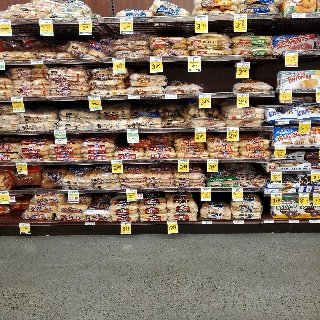All PRICE TAGS: (39, 18, 53, 23), (233, 14, 247, 19), (198, 93, 211, 98), (292, 13, 305, 18), (78, 18, 91, 23), (194, 15, 207, 20), (237, 62, 250, 67), (280, 88, 292, 93), (150, 57, 162, 62), (188, 56, 200, 61), (119, 18, 133, 22), (271, 170, 282, 175), (300, 119, 311, 124), (285, 51, 298, 55), (112, 58, 125, 62), (194, 128, 206, 132), (237, 93, 249, 97), (165, 94, 177, 98), (11, 97, 23, 101), (15, 162, 27, 166), (31, 60, 43, 64), (88, 96, 100, 100), (233, 220, 244, 224), (121, 221, 132, 225), (232, 187, 243, 191), (126, 188, 137, 192), (68, 190, 79, 194), (207, 159, 218, 163), (111, 160, 122, 164), (228, 127, 239, 131), (127, 129, 138, 133), (55, 130, 66, 134), (128, 95, 139, 99), (0, 20, 11, 24), (309, 219, 320, 223), (299, 193, 310, 197), (271, 193, 282, 197), (275, 145, 286, 149), (278, 120, 289, 124), (202, 220, 212, 224), (167, 220, 177, 224), (179, 159, 189, 163), (0, 191, 9, 195), (84, 222, 95, 225), (200, 188, 211, 191), (19, 223, 30, 226), (311, 170, 319, 174), (289, 220, 299, 223), (264, 220, 274, 223), (313, 193, 320, 196)
